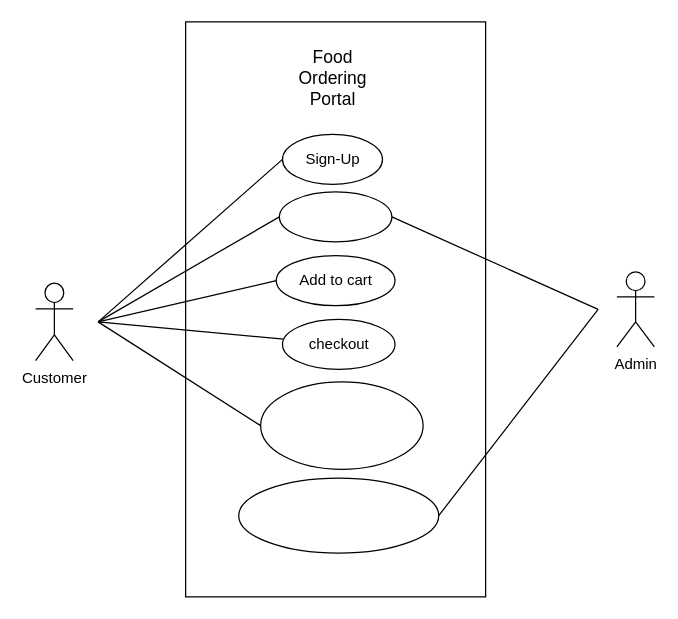
The diagram is 678 pixels wide and 619 high, and some of its shapes have lost their labels. The box of each missing label's shape, as (x1, y1, x2, y2) in pixels:
Login: (278, 191, 392, 242)
Manage Food product, Orders, Users, Comments: (238, 477, 439, 553)
view about , Contact , shop now, Cart: (259, 381, 423, 469)
